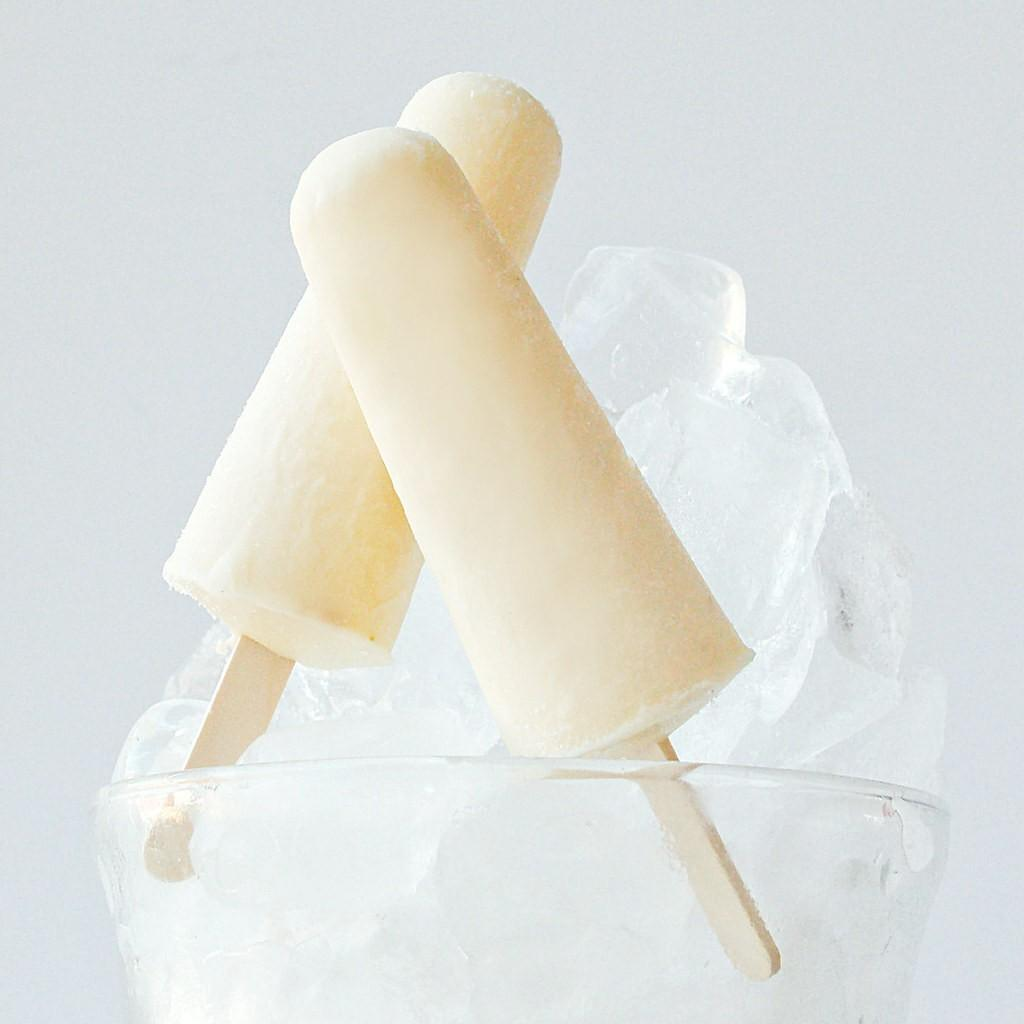Kulfi: (277, 123, 750, 777), (147, 62, 579, 671)
